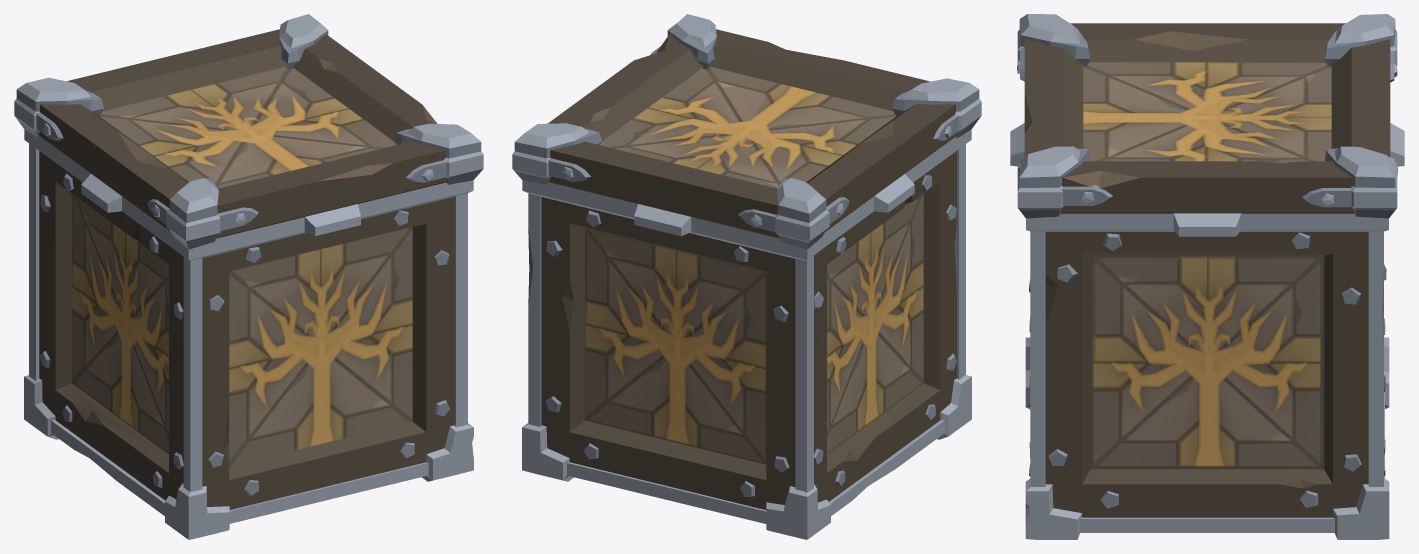
Rendered from elven_SM_Prop_Crate_02.gltf.
The picture shows the model from 3 angles, left to right: view 1: azimuth 30°, elevation 25°; view 2: azimuth 150°, elevation 25°; view 3: azimuth 270°, elevation 25°; orthographic projection. The views are drawn at different scales.
Visible parts, largest first — view 1: SM_Prop_Crate_02, SM_Prop_Crate02_lid; view 2: SM_Prop_Crate_02, SM_Prop_Crate02_lid; view 3: SM_Prop_Crate_02, SM_Prop_Crate02_lid.
Boxes of the visible parts, x1,y1,x2,y2 form: SM_Prop_Crate_02: (24,129,473,539); SM_Prop_Crate02_lid: (14,14,483,249); SM_Prop_Crate_02: (522,129,971,539); SM_Prop_Crate02_lid: (512,14,981,249); SM_Prop_Crate_02: (1010,123,1404,539); SM_Prop_Crate02_lid: (1017,14,1397,218).
Bounding box in the file's own units: 0.9416 × 0.9955 × 0.9416.
2 materials, 2 textured.
